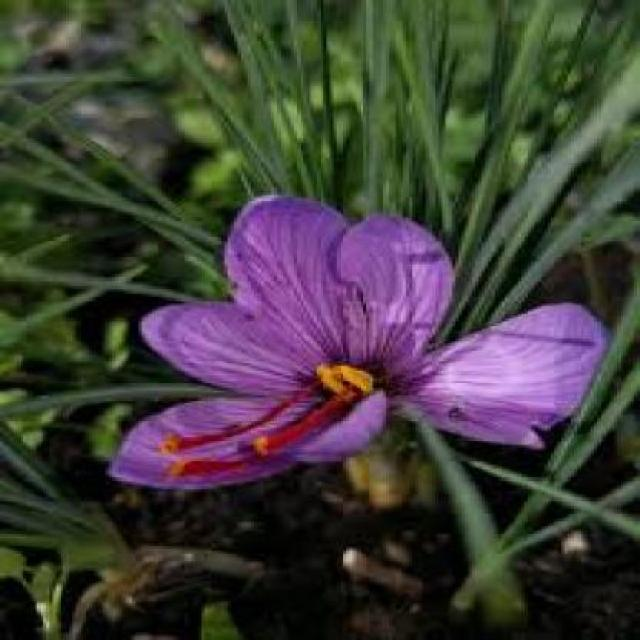Flower: (103, 195, 615, 490)
stigma: (156, 379, 318, 456), (255, 385, 356, 458)
